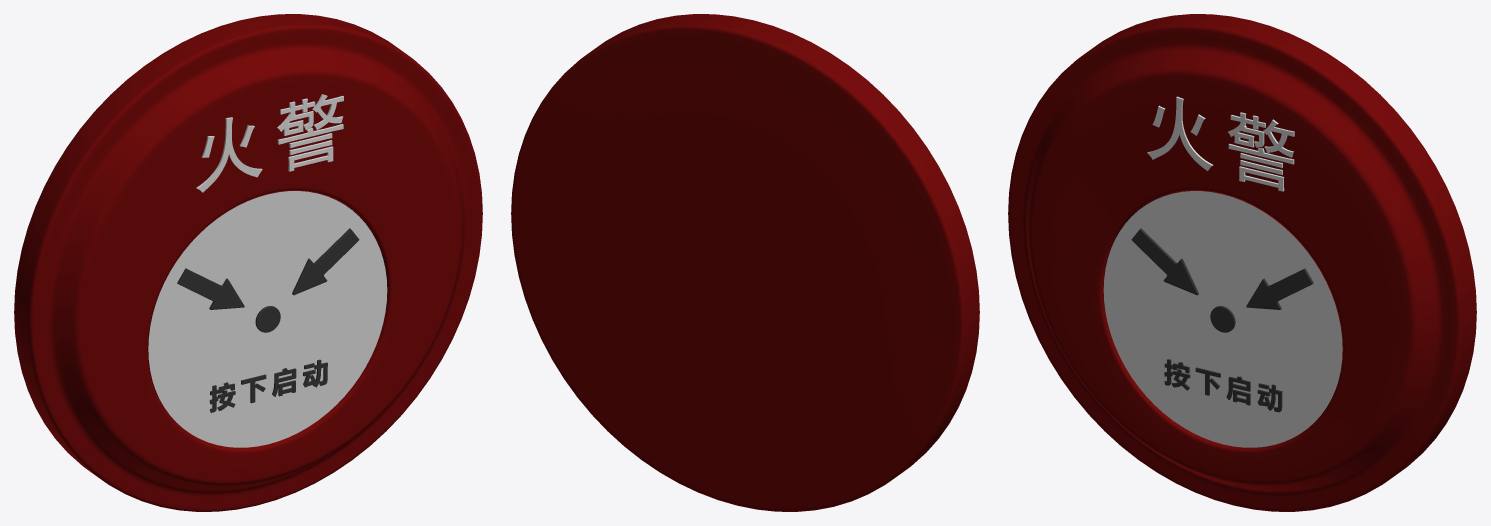
File: 火警按钮.FBX
3 views of the same model, side by side, from view 1: azimuth 30°, elevation 25°; view 2: azimuth 150°, elevation 25°; view 3: azimuth 330°, elevation 25° (orthographic).
Visible parts, largest first — view 1: 火警按钮; view 2: 火警按钮; view 3: 火警按钮.
Boxes of the visible parts, x1,y1,x2,y2 form: 火警按钮: (14,14,482,511); 火警按钮: (511,14,979,511); 火警按钮: (1008,14,1476,511).
Size of the model in its own units: 2647 by 2647 by 316.
